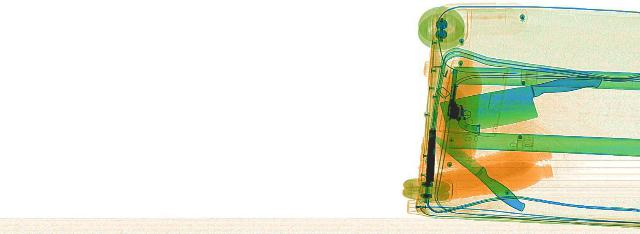Knife: (404, 72, 638, 132), (424, 133, 534, 210)
